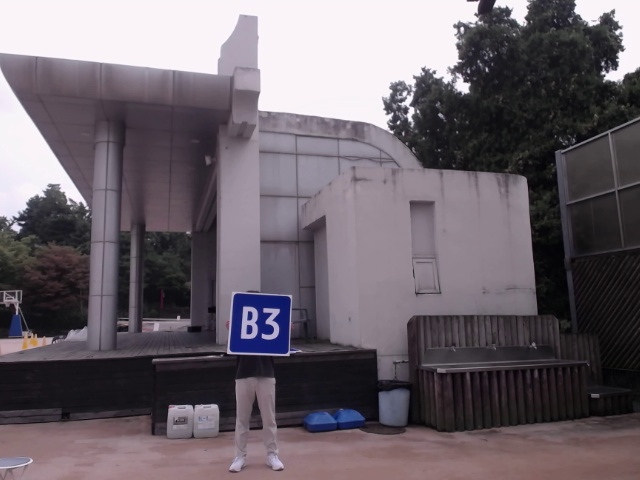delivery_b3: (230, 295, 291, 357)
